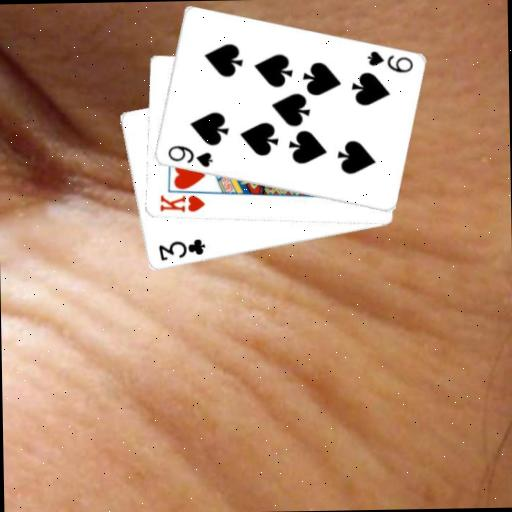3C: (155, 236, 207, 263)
9S: (164, 142, 215, 170), (363, 48, 414, 76)
KH: (156, 192, 206, 215)
